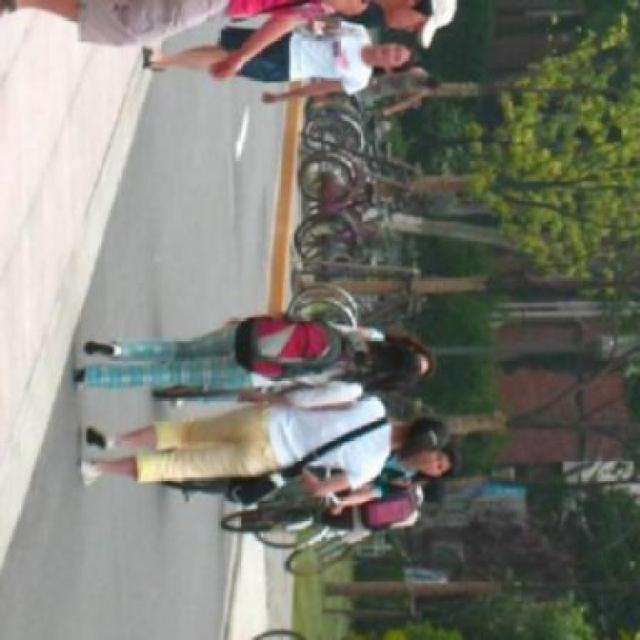Person: (65, 386, 446, 496), (0, 0, 482, 82), (69, 315, 433, 391), (133, 26, 418, 111)
